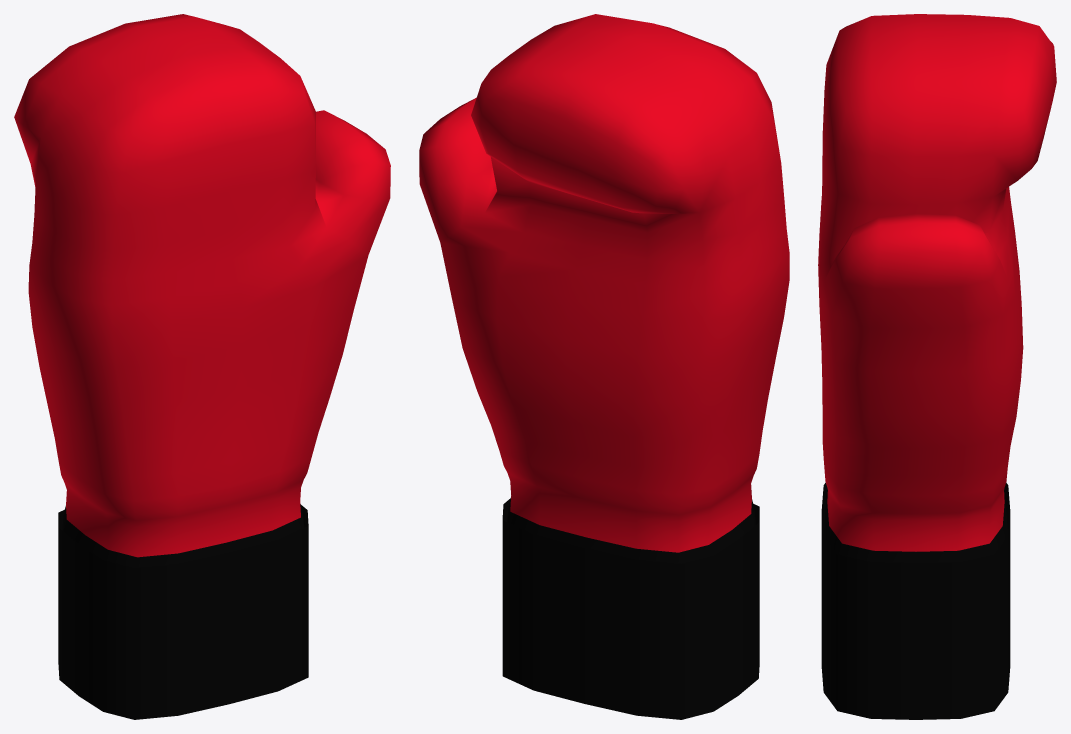
File: boxingGlove.fbx
The picture shows the model from 3 angles, left to right: view 1: azimuth 30°, elevation 25°; view 2: azimuth 150°, elevation 25°; view 3: azimuth 270°, elevation 25°; orthographic projection. The views are drawn at different scales.
Visible parts, largest first — view 1: Cube; view 2: Cube; view 3: Cube.
Part boxes in pixels (x1,y1,x2,y2): Cube: (14, 14, 390, 719); Cube: (419, 14, 789, 719); Cube: (818, 14, 1056, 719).
Size of the model in its own units: 228 by 420 by 143.
